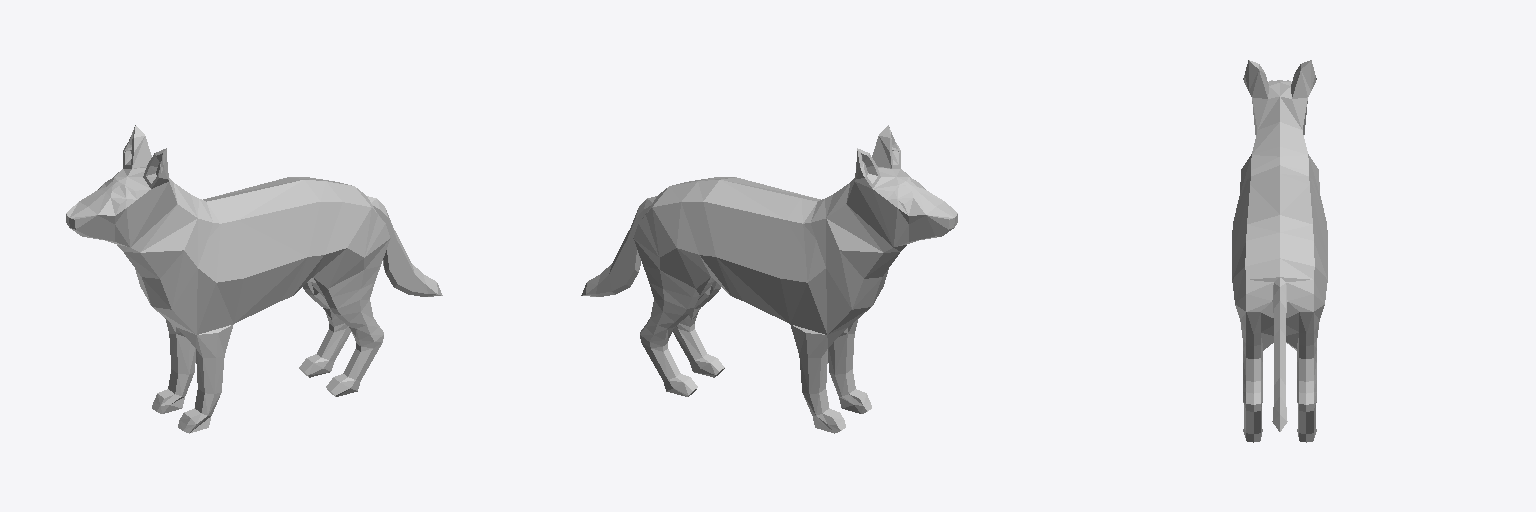
The model's file is GermanShephardLowPoly.obj.
3 views of the same model, side by side, from view 1: azimuth 30°, elevation 25°; view 2: azimuth 150°, elevation 25°; view 3: azimuth 270°, elevation 25° (orthographic).
Parts seen in each view (by area): view 1: body_Plane.001, head_Plane.002, left_back_leg_Plane.006, left_front_leg_Plane.003, tail_Plane.000, right_front_leg_Plane.005, right_back_leg_Plane.007; view 2: body_Plane.001, head_Plane.002, right_back_leg_Plane.007, right_front_leg_Plane.005, tail_Plane.000, left_front_leg_Plane.003, left_back_leg_Plane.006; view 3: body_Plane.001, head_Plane.002, left_back_leg_Plane.006, right_back_leg_Plane.007, tail_Plane.000.
Boxes of the visible parts, box(x1,y1,x2,y2) form: body_Plane.001: box(124, 177, 381, 347); head_Plane.002: box(66, 125, 177, 252); left_back_leg_Plane.006: box(311, 208, 390, 396); left_front_leg_Plane.003: box(178, 324, 233, 433); tail_Plane.000: box(367, 196, 442, 296); right_front_leg_Plane.005: box(152, 318, 195, 413); right_back_leg_Plane.007: box(299, 283, 350, 377); body_Plane.001: box(642, 177, 899, 347); head_Plane.002: box(846, 125, 957, 252); right_back_leg_Plane.007: box(633, 208, 710, 396); right_front_leg_Plane.005: box(790, 324, 845, 433); tail_Plane.000: box(581, 196, 656, 296); left_front_leg_Plane.003: box(828, 318, 871, 413); left_back_leg_Plane.006: box(673, 281, 724, 377); body_Plane.001: box(1232, 122, 1327, 335); head_Plane.002: box(1243, 60, 1316, 134); left_back_leg_Plane.006: box(1232, 267, 1273, 442); right_back_leg_Plane.007: box(1286, 267, 1327, 442); tail_Plane.000: box(1272, 278, 1287, 431).
Bounding box in the file's own units: 9.17 × 6.8 × 2.04.